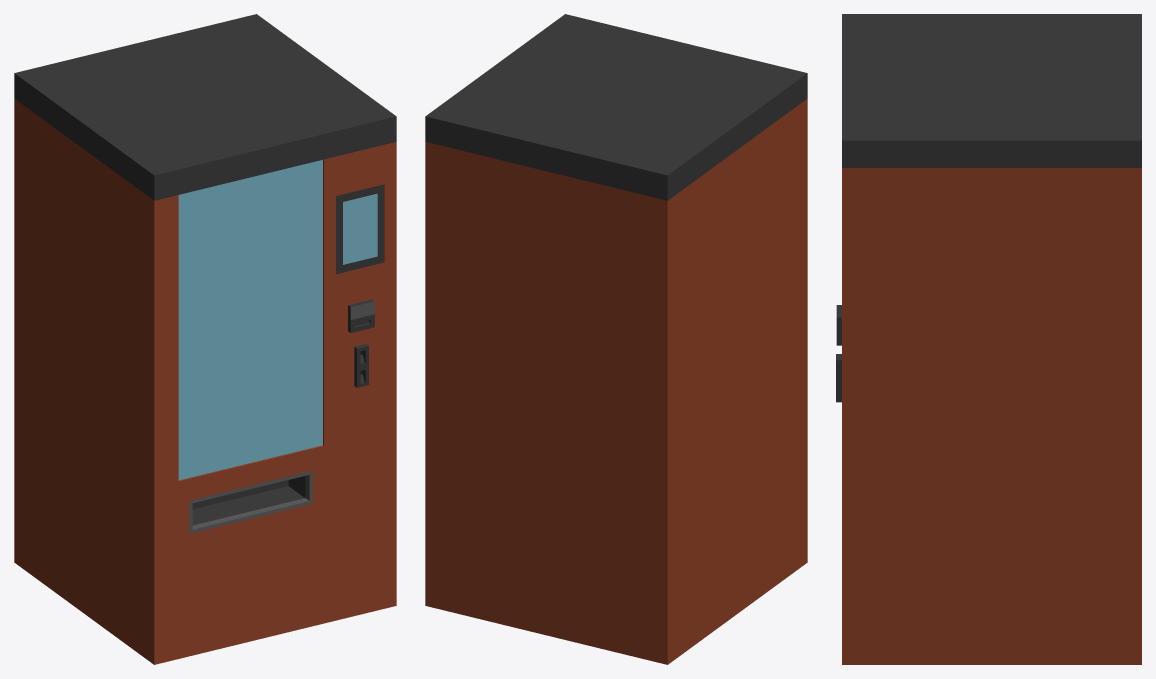
File: SM_Props_VendingMachine_02.fbx
The picture shows the model from 3 angles, left to right: view 1: azimuth 30°, elevation 25°; view 2: azimuth 150°, elevation 25°; view 3: azimuth 270°, elevation 25°; orthographic projection. The views are drawn at different scales.
Visible parts, largest first — view 1: SM_Props_VendingMachine_02; view 2: SM_Props_VendingMachine_02; view 3: SM_Props_VendingMachine_02.
Part boxes in pixels (x1,y1,x2,y2): SM_Props_VendingMachine_02: (14,14,396,664); SM_Props_VendingMachine_02: (425,14,807,664); SM_Props_VendingMachine_02: (836,14,1141,664).
Bounding box in the file's own units: 1 × 1.93 × 1.02.
